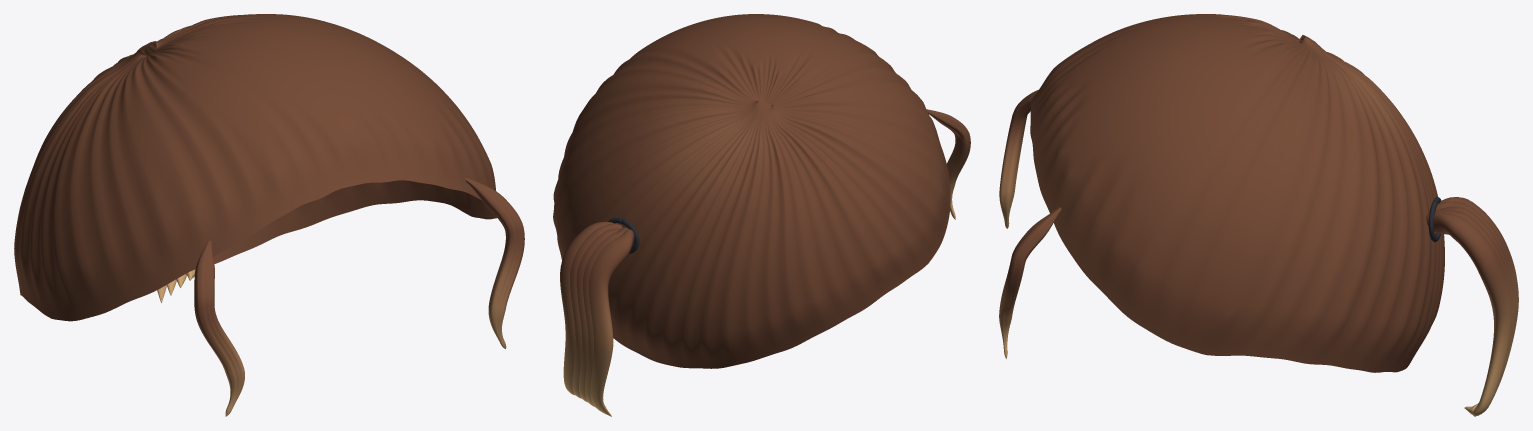
Rendered from ponytail-cowboy-ombre.glb.
3 renders of one model, left to right at view 1: azimuth 30°, elevation 25°; view 2: azimuth 150°, elevation 25°; view 3: azimuth 270°, elevation 25°, orthographic. The views are drawn at different scales.
Visible parts, largest first — view 1: 226 hair / Hair / crisp pulled roots220.001, 226 hair / Hair / sculpted front locks222.001; view 2: 226 hair / Hair / crisp pulled roots220.001, 226 hair / Hair / chestnut226, 226 hair / Hair / sculpted front locks222.001; view 3: 226 hair / Hair / crisp pulled roots220.001, 226 hair / Hair / chestnut226, 226 hair / Hair / sculpted front locks222.001.
Part boxes in pixels (x1,y1,x2,y2): 226 hair / Hair / crisp pulled roots220.001: (14,14,496,321); 226 hair / Hair / sculpted front locks222.001: (194,178,524,416); 226 hair / Hair / crisp pulled roots220.001: (553,14,950,368); 226 hair / Hair / chestnut226: (560,221,634,416); 226 hair / Hair / sculpted front locks222.001: (926,109,970,219); 226 hair / Hair / crisp pulled roots220.001: (1030,14,1444,372); 226 hair / Hair / chestnut226: (1426,197,1518,416); 226 hair / Hair / sculpted front locks222.001: (999,90,1061,358).
Size of the model in its own units: 0.7726 by 0.6579 by 0.8584.
Materials: 4 (3 with a texture image).
